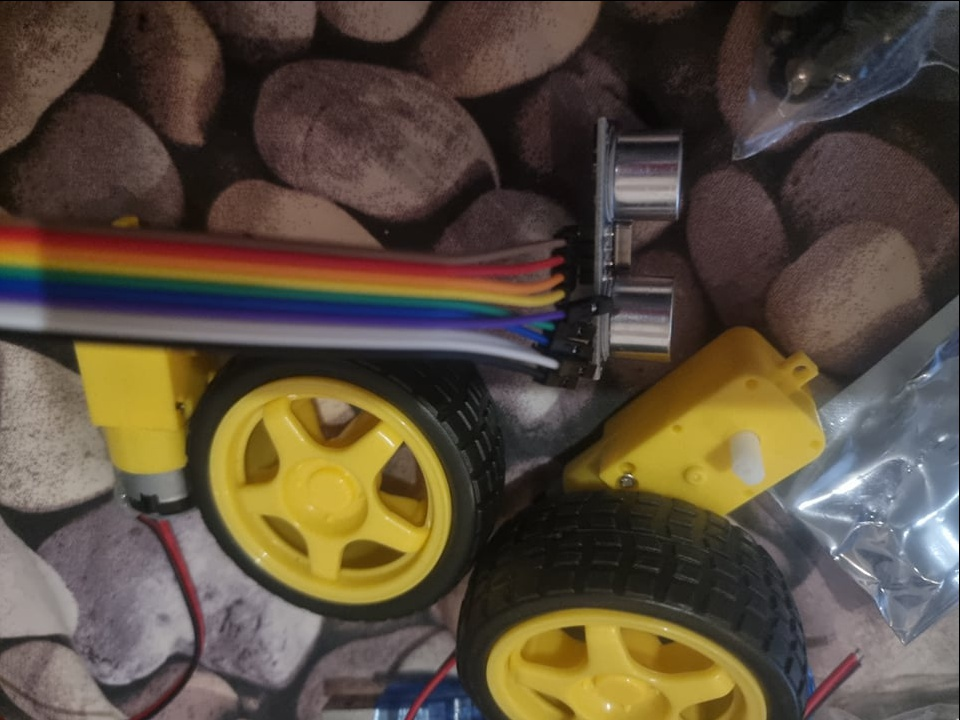SENSOR: (593, 107, 692, 384)
